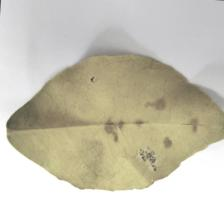canker: (82, 74, 183, 179)
